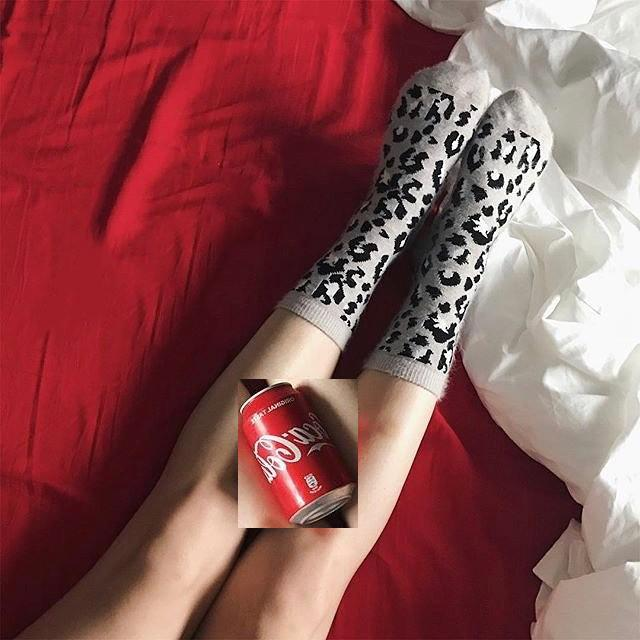coca-cola: (238, 379, 358, 528)
